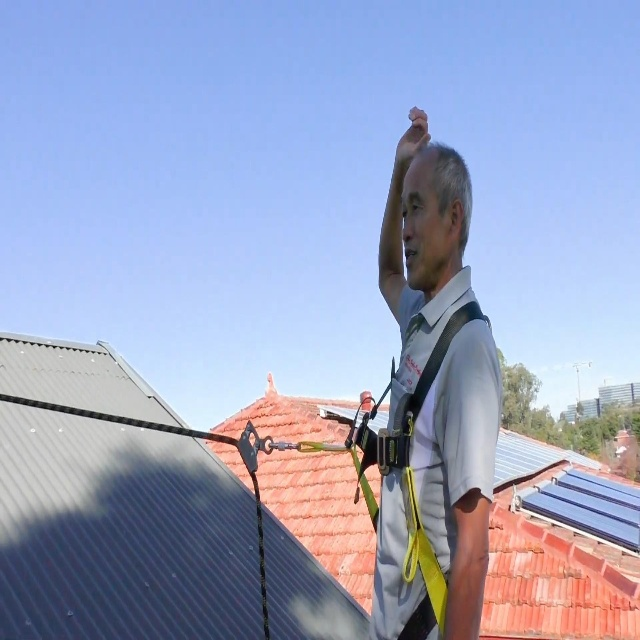Arnes_seguridad: (310, 299, 506, 640)
